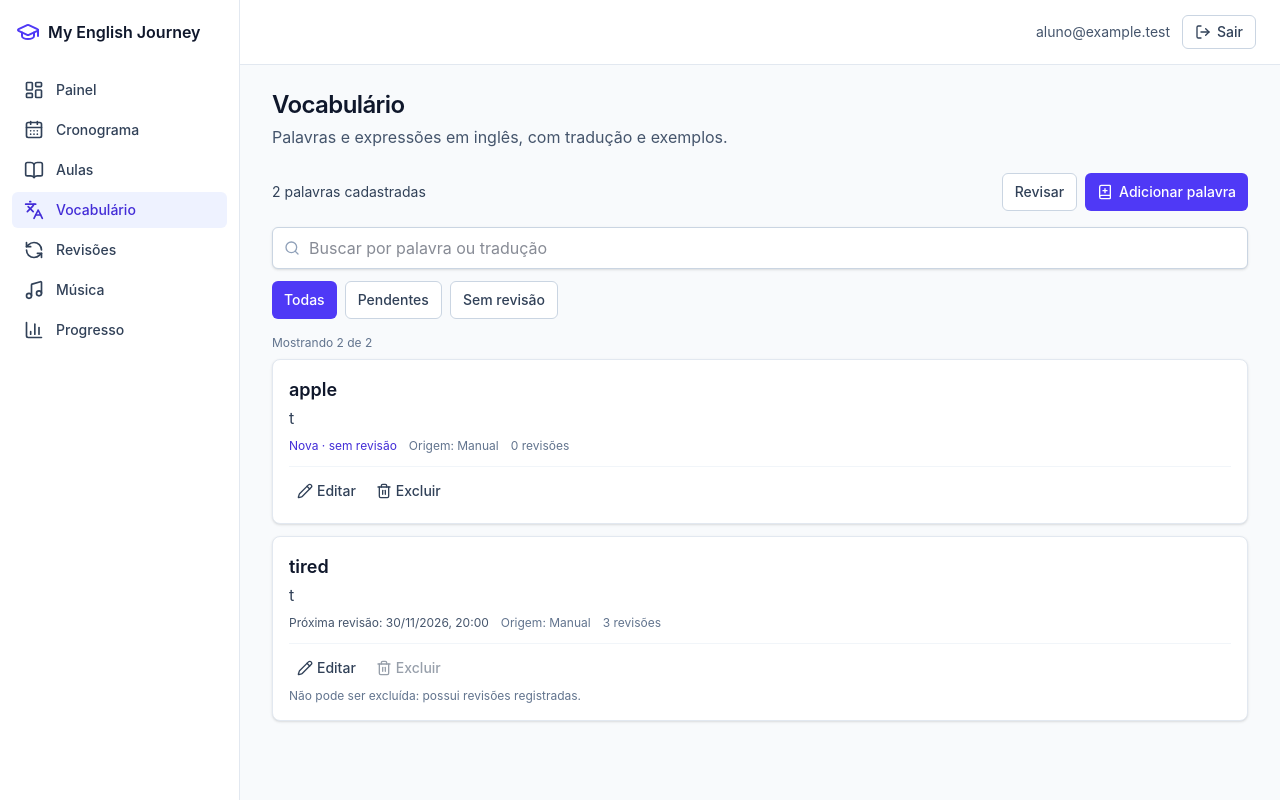
it: /vocabulary › 16. exclusão: sem histórico com confirmação; com histórico bloqueada e explicada
Expected: the button with aria-label "Excluir “tired”" is disabled, [368,652,449,684]
Click the button with aria-label "Excluir “apple”" at (408, 491), box [368,475,449,507]
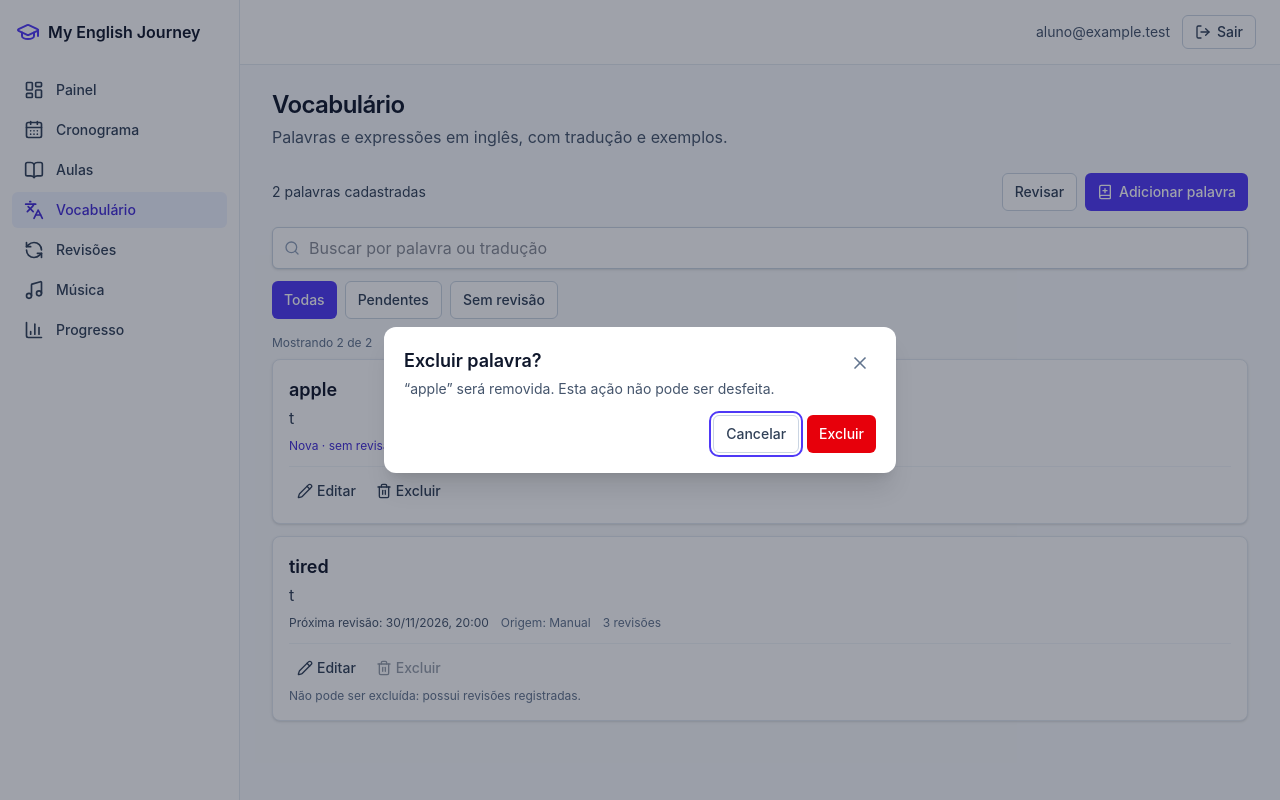
Click the button "Excluir" at (842, 434), box [807,415,876,453]
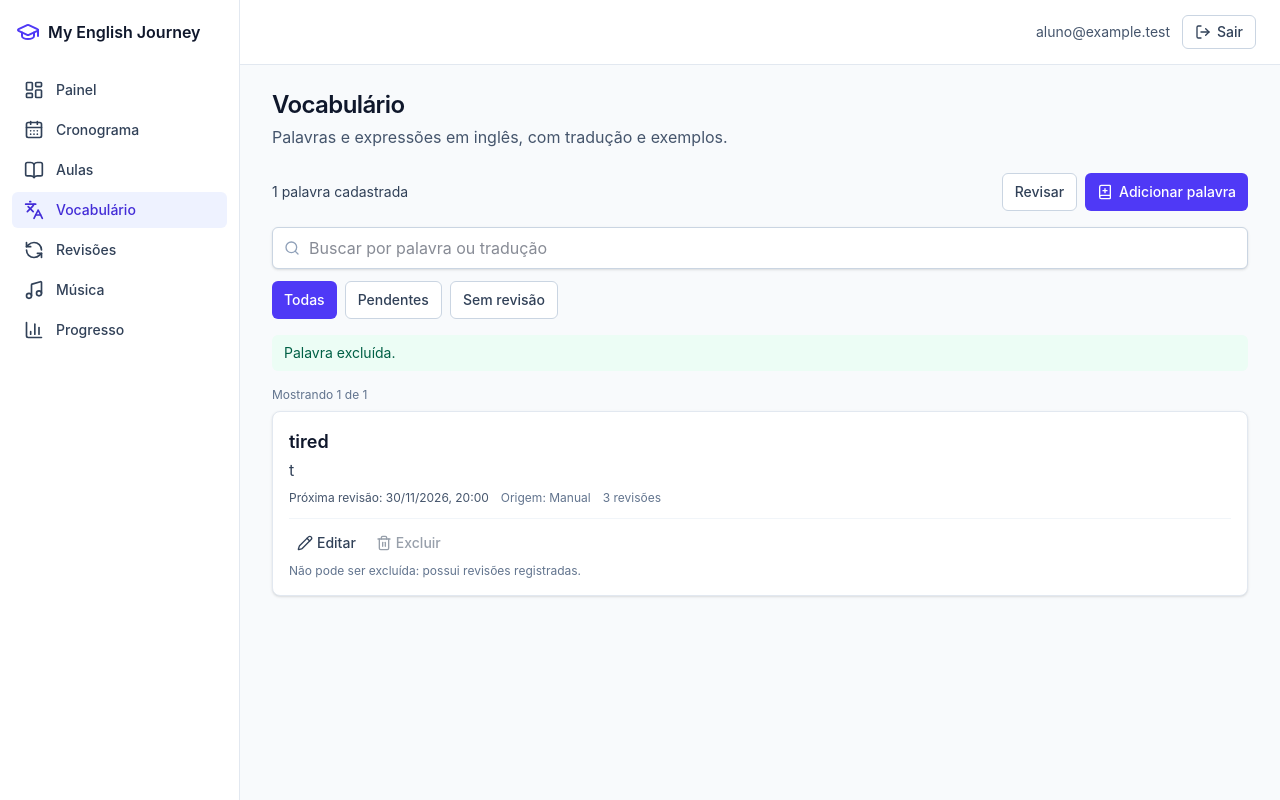
Now the heading "apple" is gone
